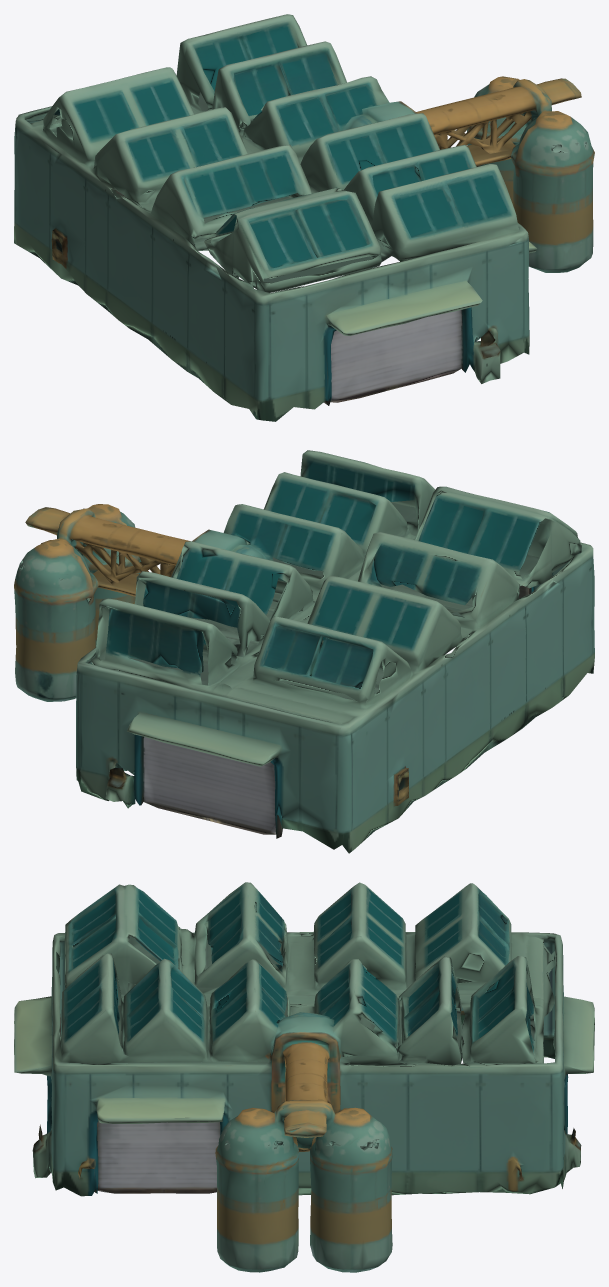
File: angar-s-panelyami.glb
The picture shows the model from 3 angles, top to bottom: view 1: azimuth 30°, elevation 25°; view 2: azimuth 150°, elevation 25°; view 3: azimuth 270°, elevation 25°; orthographic projection.
Parts seen in each view (by area): view 1: geometry_0; view 2: geometry_0; view 3: geometry_0.
Part boxes in pixels (box(x1,y1,x2,y2)): geometry_0: box(14, 14, 594, 421); geometry_0: box(14, 450, 594, 853); geometry_0: box(14, 882, 594, 1272).
Size of the model in its own units: 0.8946 by 0.3584 by 1.
1 material, 1 textured.
